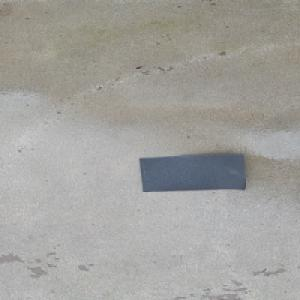PaintChip: (138, 153, 246, 193)
